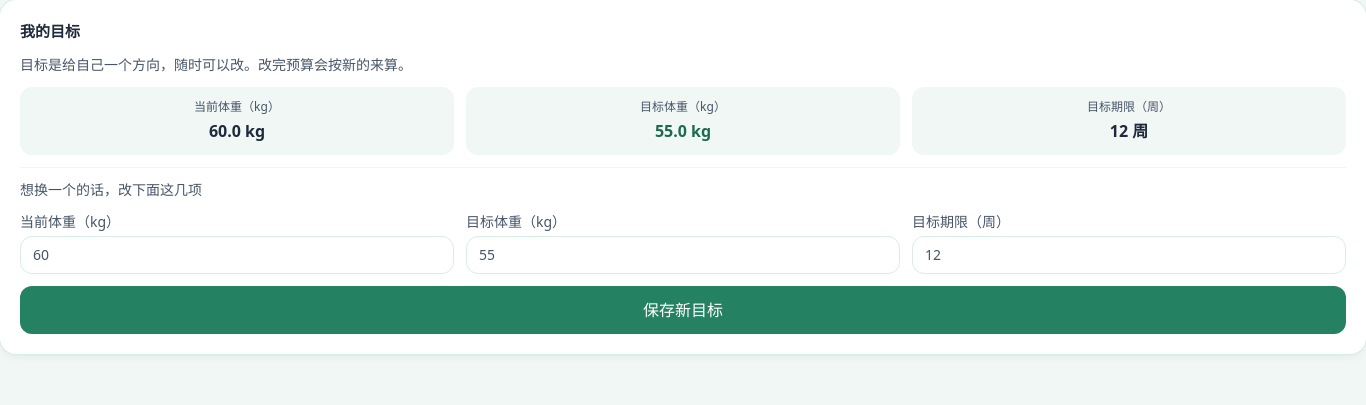
「我的目标」卡片 · 提交（部分更新） › 没有任何改动就提交 → 中性提示且**不发请求**
This screenshot has width=1366, height=405.
Check: the form with test id "goal-form" is shown, box [20,166,1346,334]
Click the button "保存新目标": [683, 310] box [20,286,1346,334]
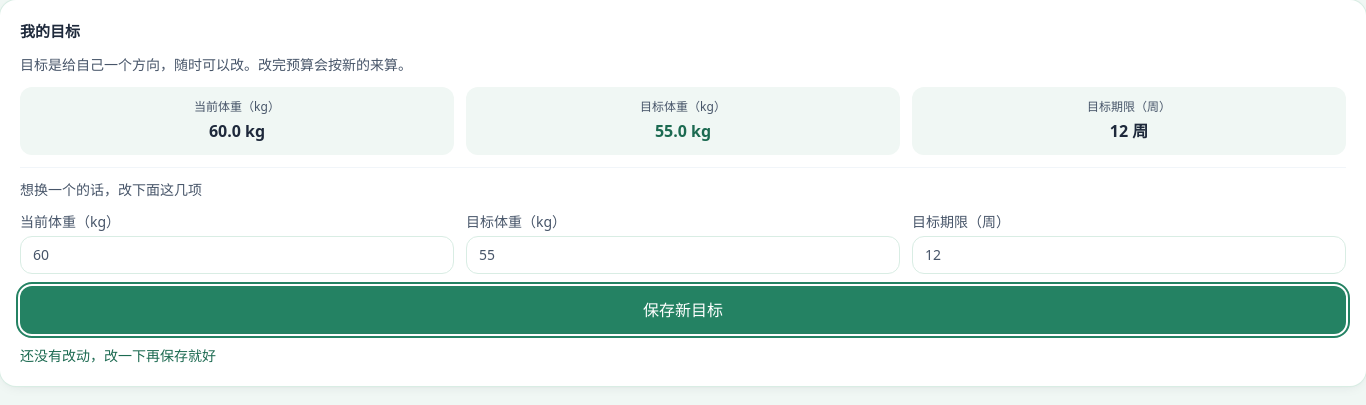
Check: the message with test id "goal-notice" reads "还没有改动，改一下再保存就好", box [20,346,216,364]
